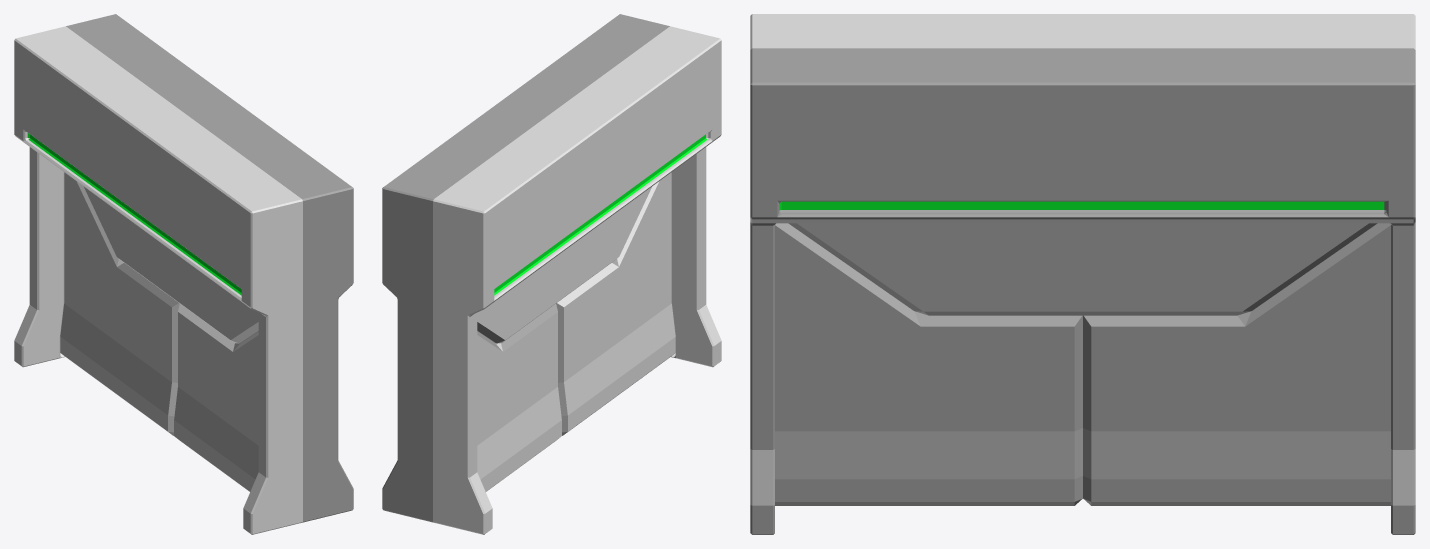
The model's file is PorteTuto.fbx.
3 renders of one model, left to right at view 1: azimuth 30°, elevation 25°; view 2: azimuth 150°, elevation 25°; view 3: azimuth 270°, elevation 25°, orthographic. The views are drawn at different scales.
Parts seen in each view (by area): view 1: PorteTuto, Porte1, Porte2, Porte3; view 2: PorteTuto, Porte2, Porte1, Porte3; view 3: PorteTuto, Porte2, Porte1, Porte3.
Boxes of the visible parts, x1,y1,x2,y2 form: PorteTuto: (14, 14, 353, 534); Porte1: (60, 172, 179, 435); Porte2: (174, 304, 258, 491); Porte3: (83, 186, 258, 343); PorteTuto: (382, 14, 721, 534); Porte2: (556, 172, 675, 435); Porte1: (477, 304, 561, 491); Porte3: (477, 186, 652, 343); PorteTuto: (750, 14, 1415, 534); Porte2: (775, 223, 1082, 505); Porte1: (1083, 223, 1390, 505); Porte3: (788, 223, 1377, 315).
Bounding box in the file's own units: 200 × 600 × 800.
